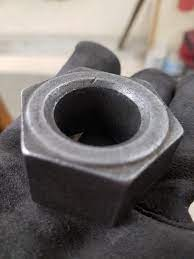No thread: (20, 69, 184, 218)
